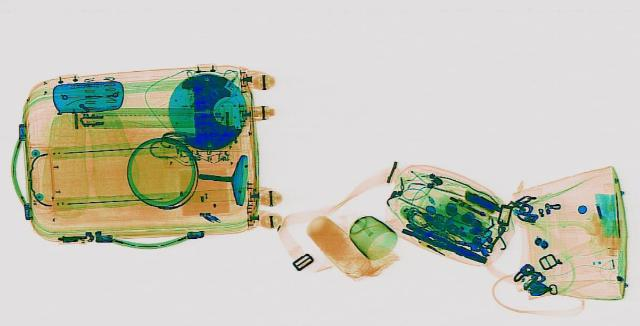Pliers: (394, 221, 494, 262)
